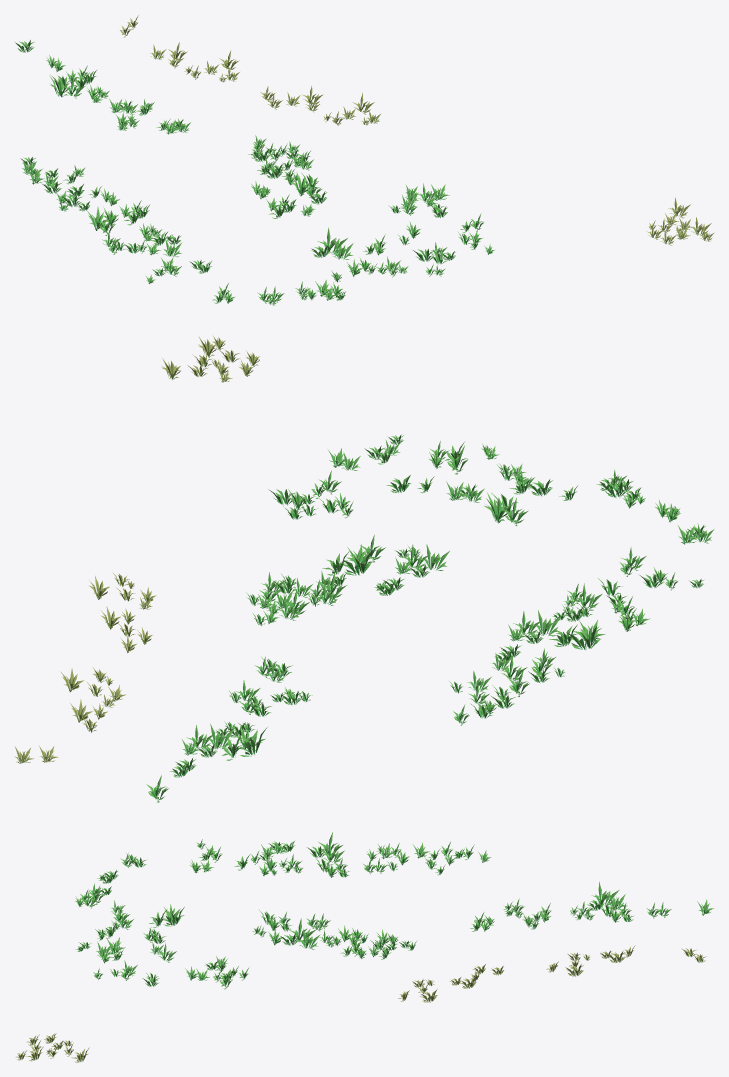
The model's file is area_08_1.fbx.
The picture shows the model from 3 angles, top to bottom: view 1: azimuth 30°, elevation 25°; view 2: azimuth 150°, elevation 25°; view 3: azimuth 270°, elevation 25°; orthographic projection. The views are drawn at different scales.
Parts seen in each view (by area): view 1: area_08_1; view 2: area_08_1; view 3: area_08_1.
Boxes of the visible parts, x1,y1,x2,y2 form: area_08_1: [15, 15, 714, 305]; area_08_1: [14, 336, 714, 802]; area_08_1: [15, 832, 714, 1062].
Bounding box in the file's own units: 37.16 × 1.67 × 50.11.
